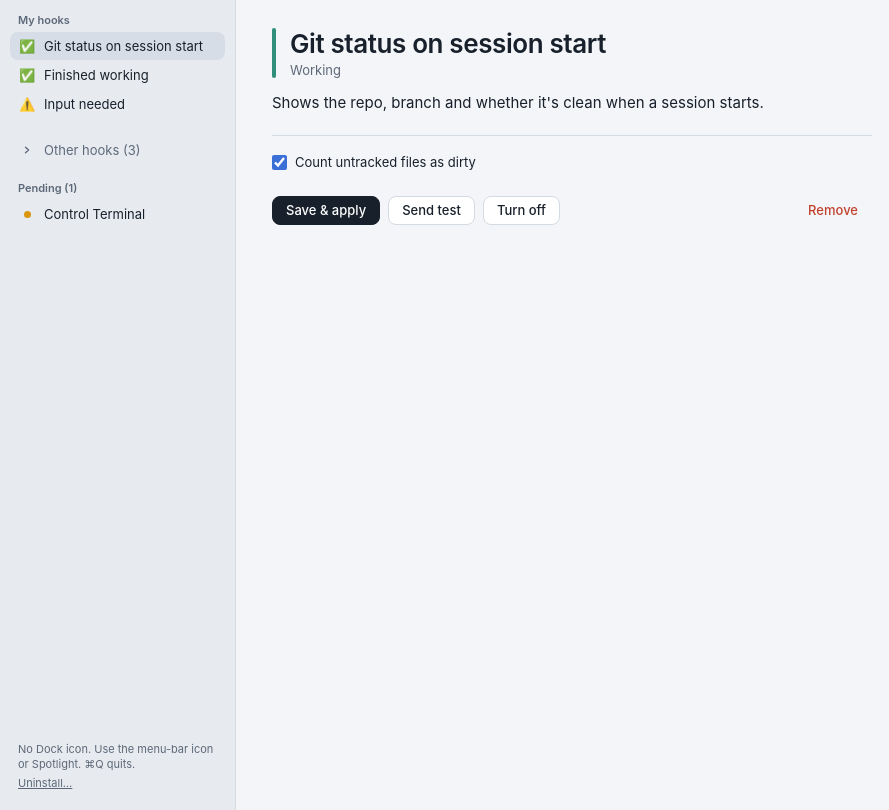
App › spaces_note_on_notification_hooks
Click the text "Input needed" at coordinates (85, 104), box [44,96,125,112]
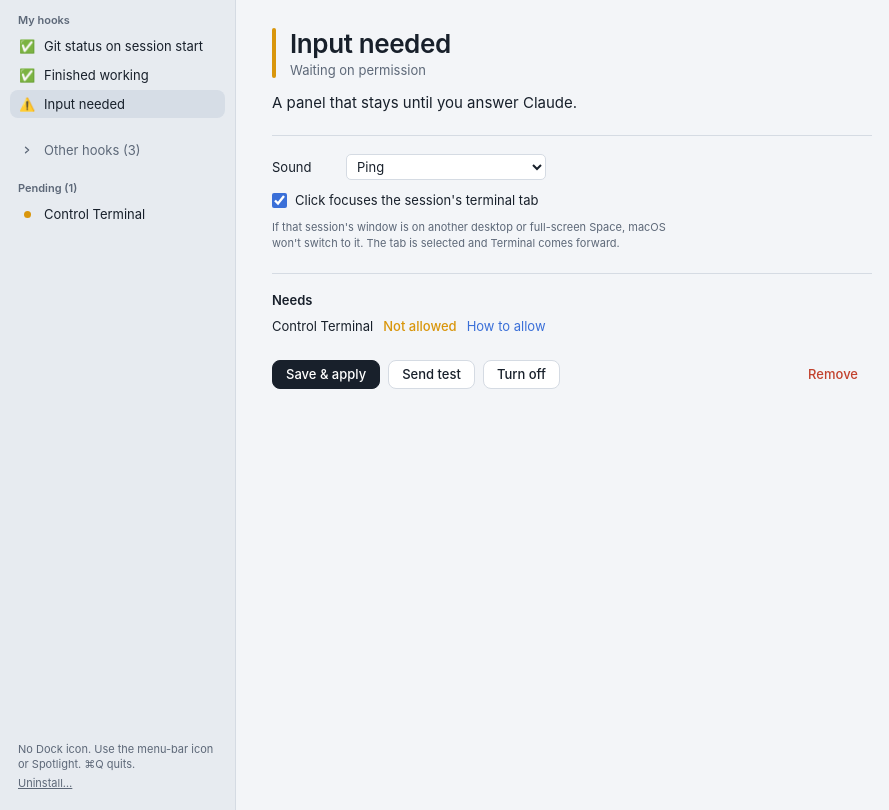
Expected: the text "If that session's window is on another desktop or full-screen Space, macOS won't switch to it. The tab is selected and T" is shown, [272,220,666,250]
Click the text "Git status on session start" at coordinates (130, 46), box [44,38,217,54]
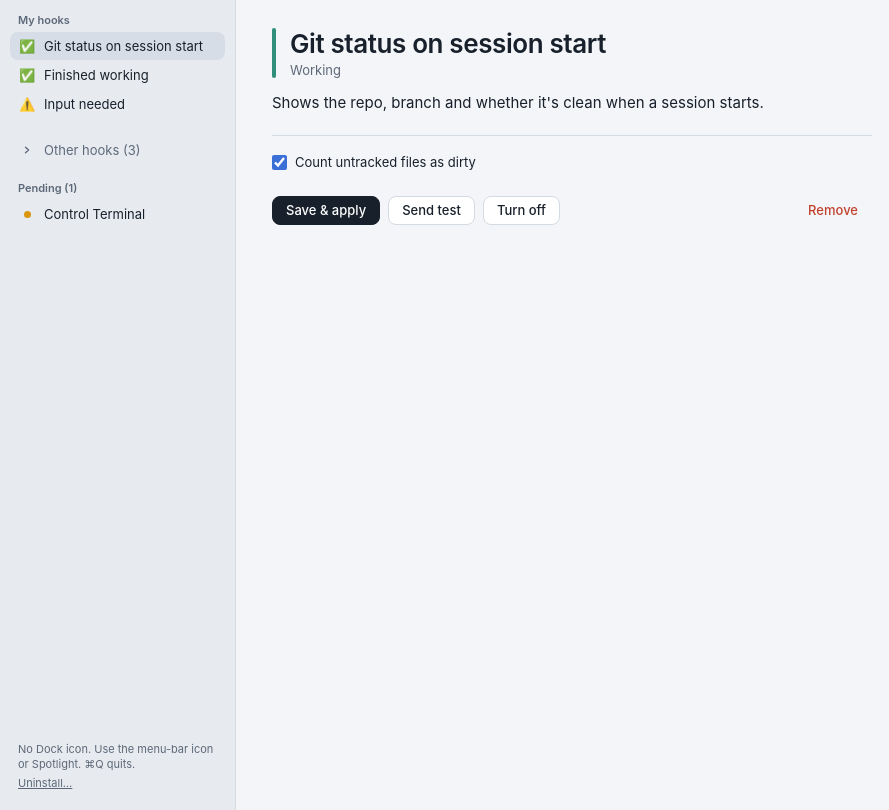
Expected: the checkbox labelled "Count untracked files as dirty" is shown, [272,155,287,170]
Expected: the text "If that session's window is on another desktop or full-screen Space, macOS won't switch to it. The tab is selected and T" is gone
